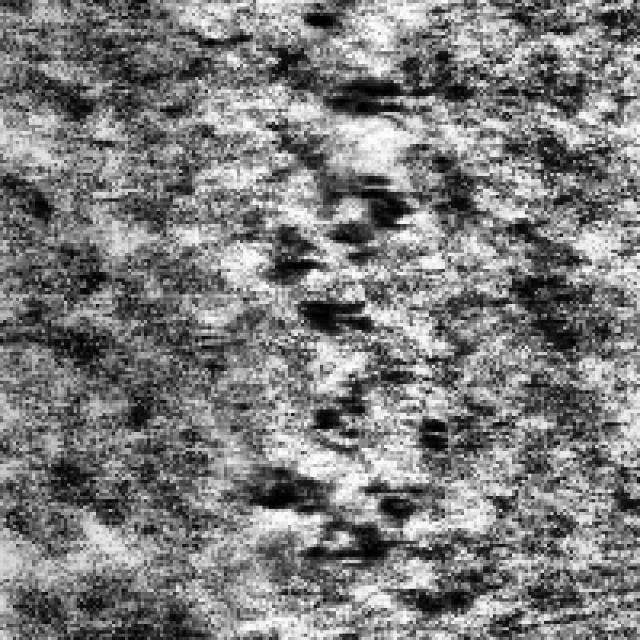Crazing: (234, 42, 438, 570)
